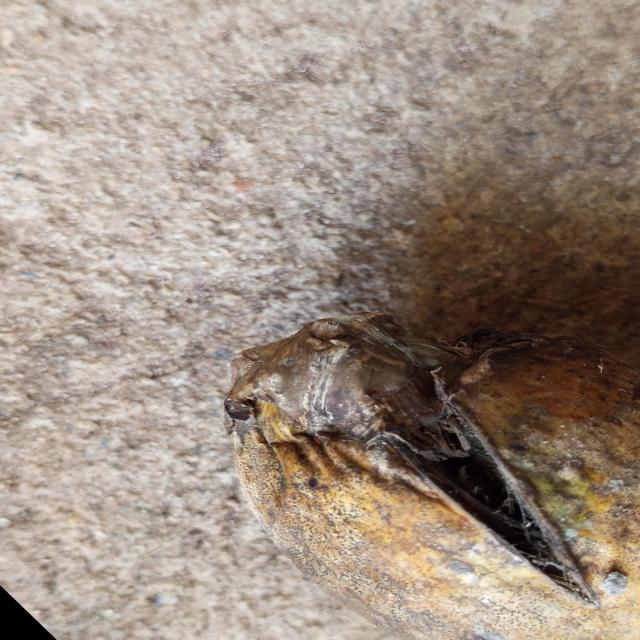damaged: (224, 313, 640, 640)
